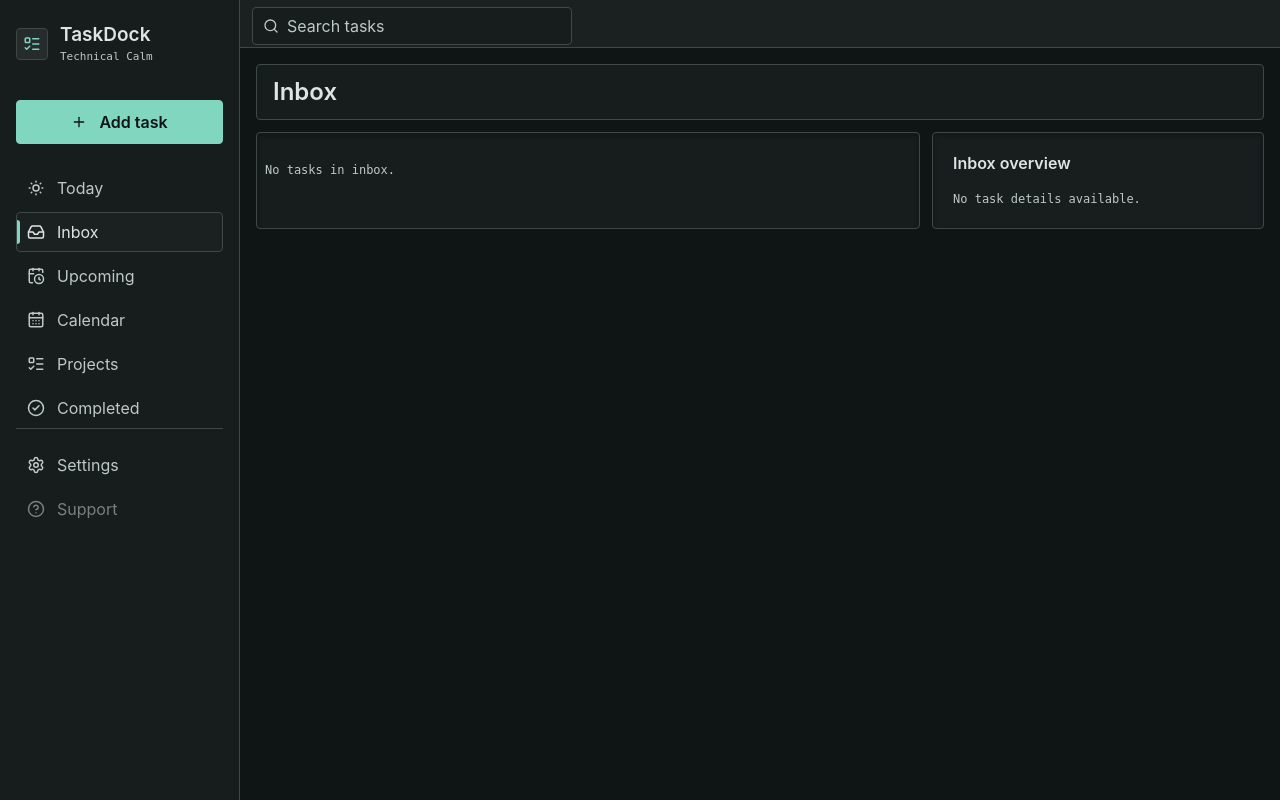
Test: refreshes the current calendar month after task mutations and ignores older results
Expected: the text "No tasks in inbox." is shown, [265, 163, 395, 177]
Click the button "Calendar" at {"x": 120, "y": 320}, box [16, 300, 223, 340]
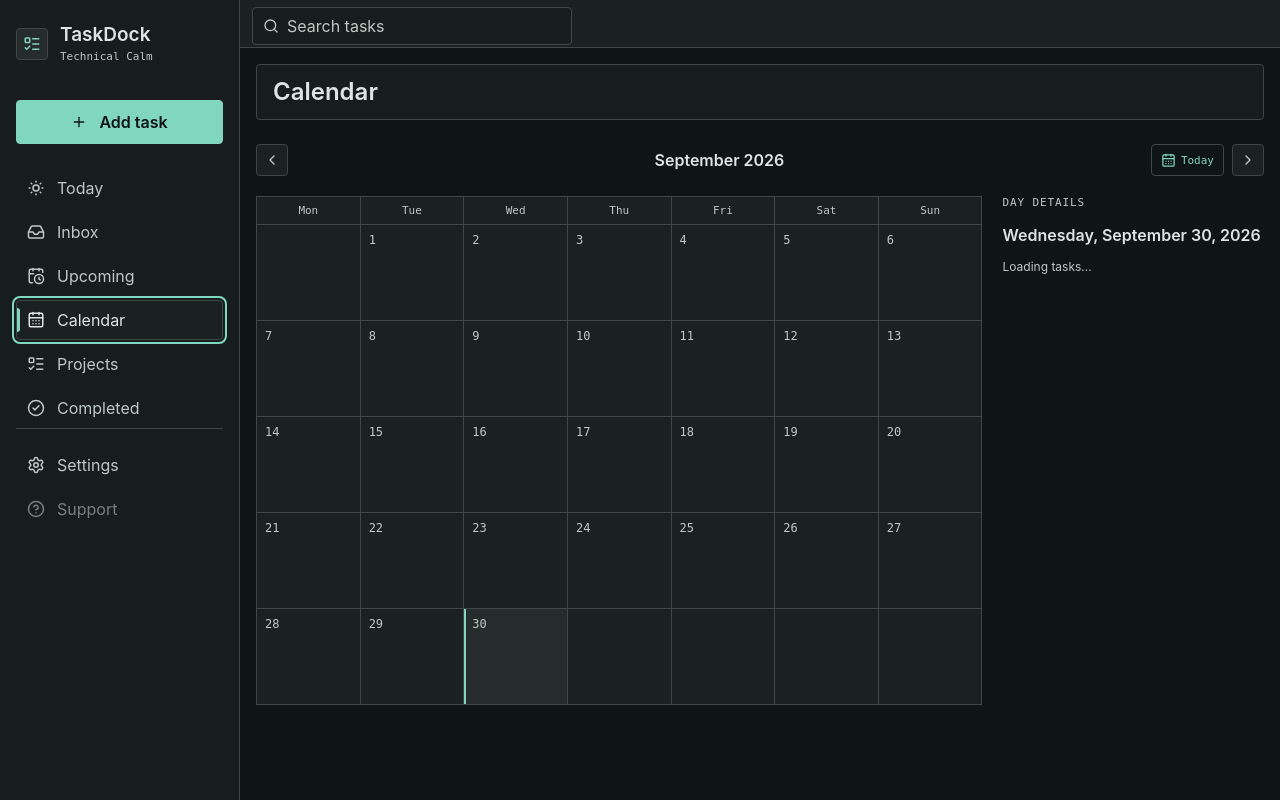
Click the button named "Next month" at {"x": 1248, "y": 160}, box [1232, 144, 1264, 176]
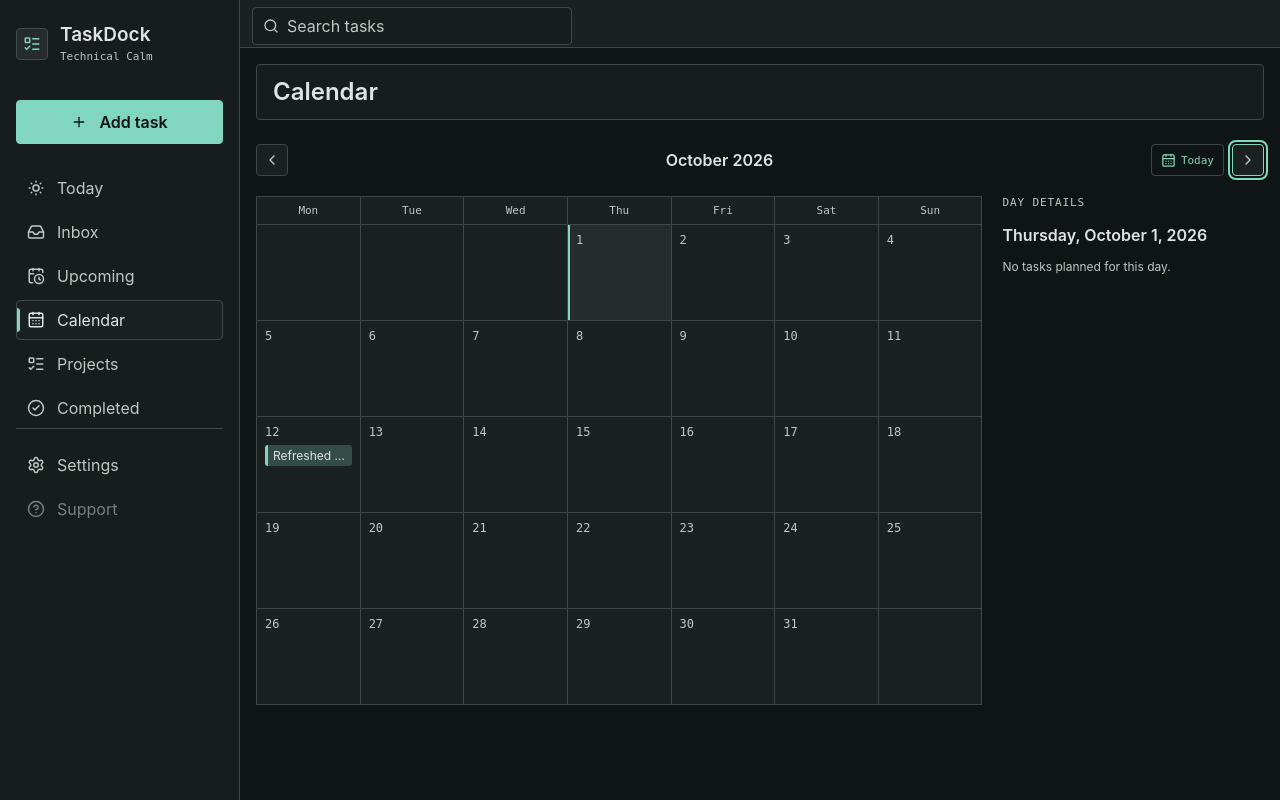
Expected: the message "Loading tasks..." is gone
